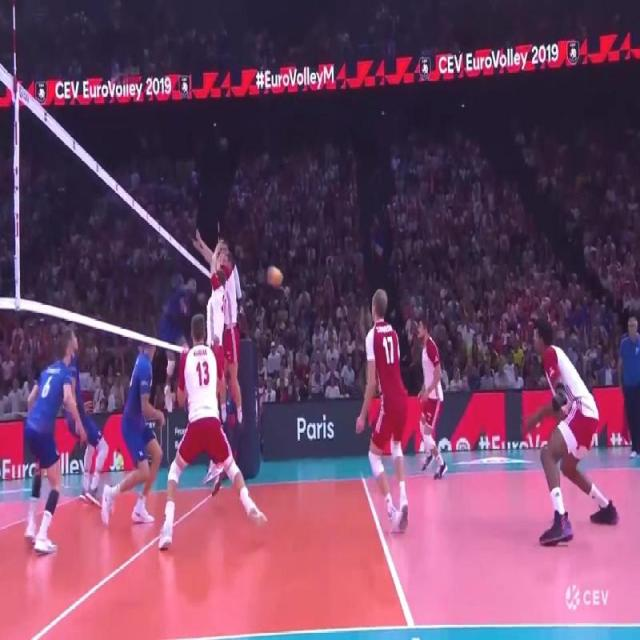volleyball: (268, 266, 282, 286)
